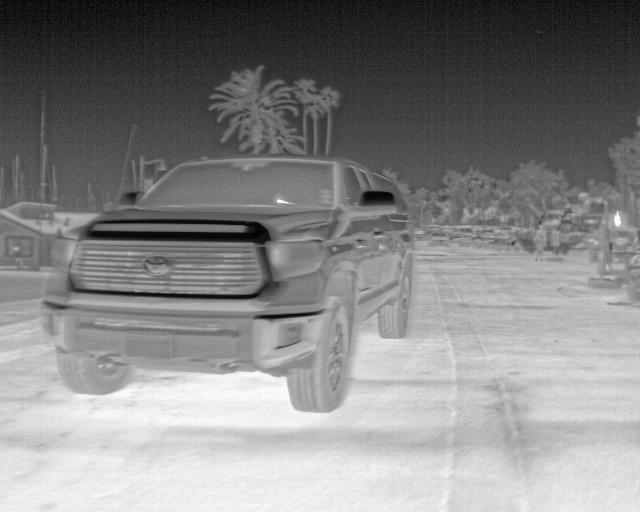bicycle: (41, 155, 415, 413)
empty: (532, 224, 547, 262)
